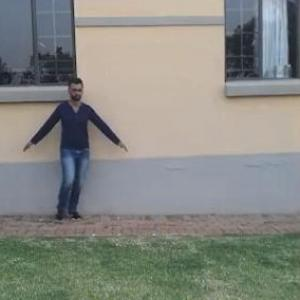land: (23, 80, 124, 234)
